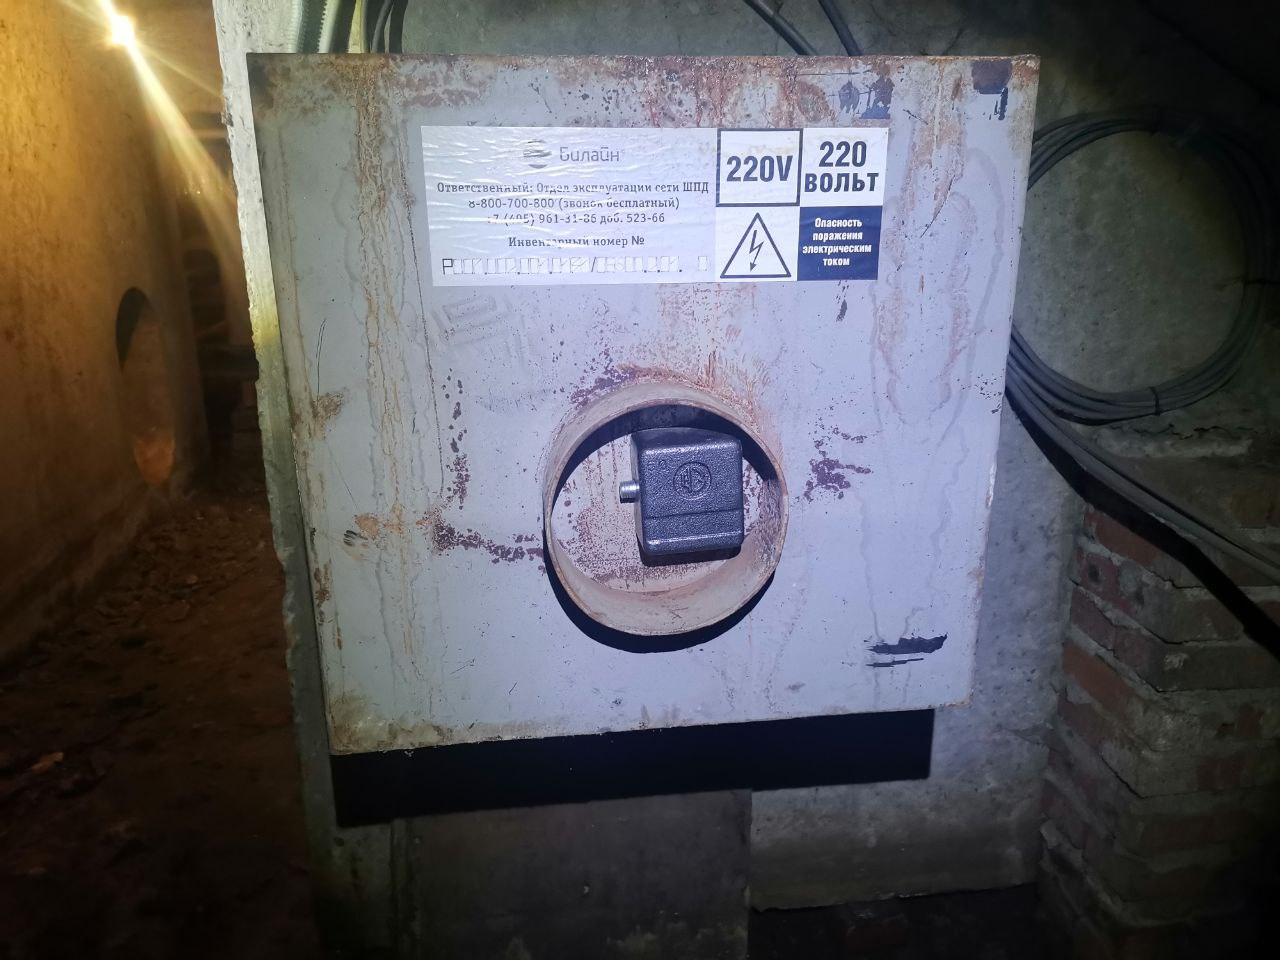shta-9: (239, 43, 1047, 754)
